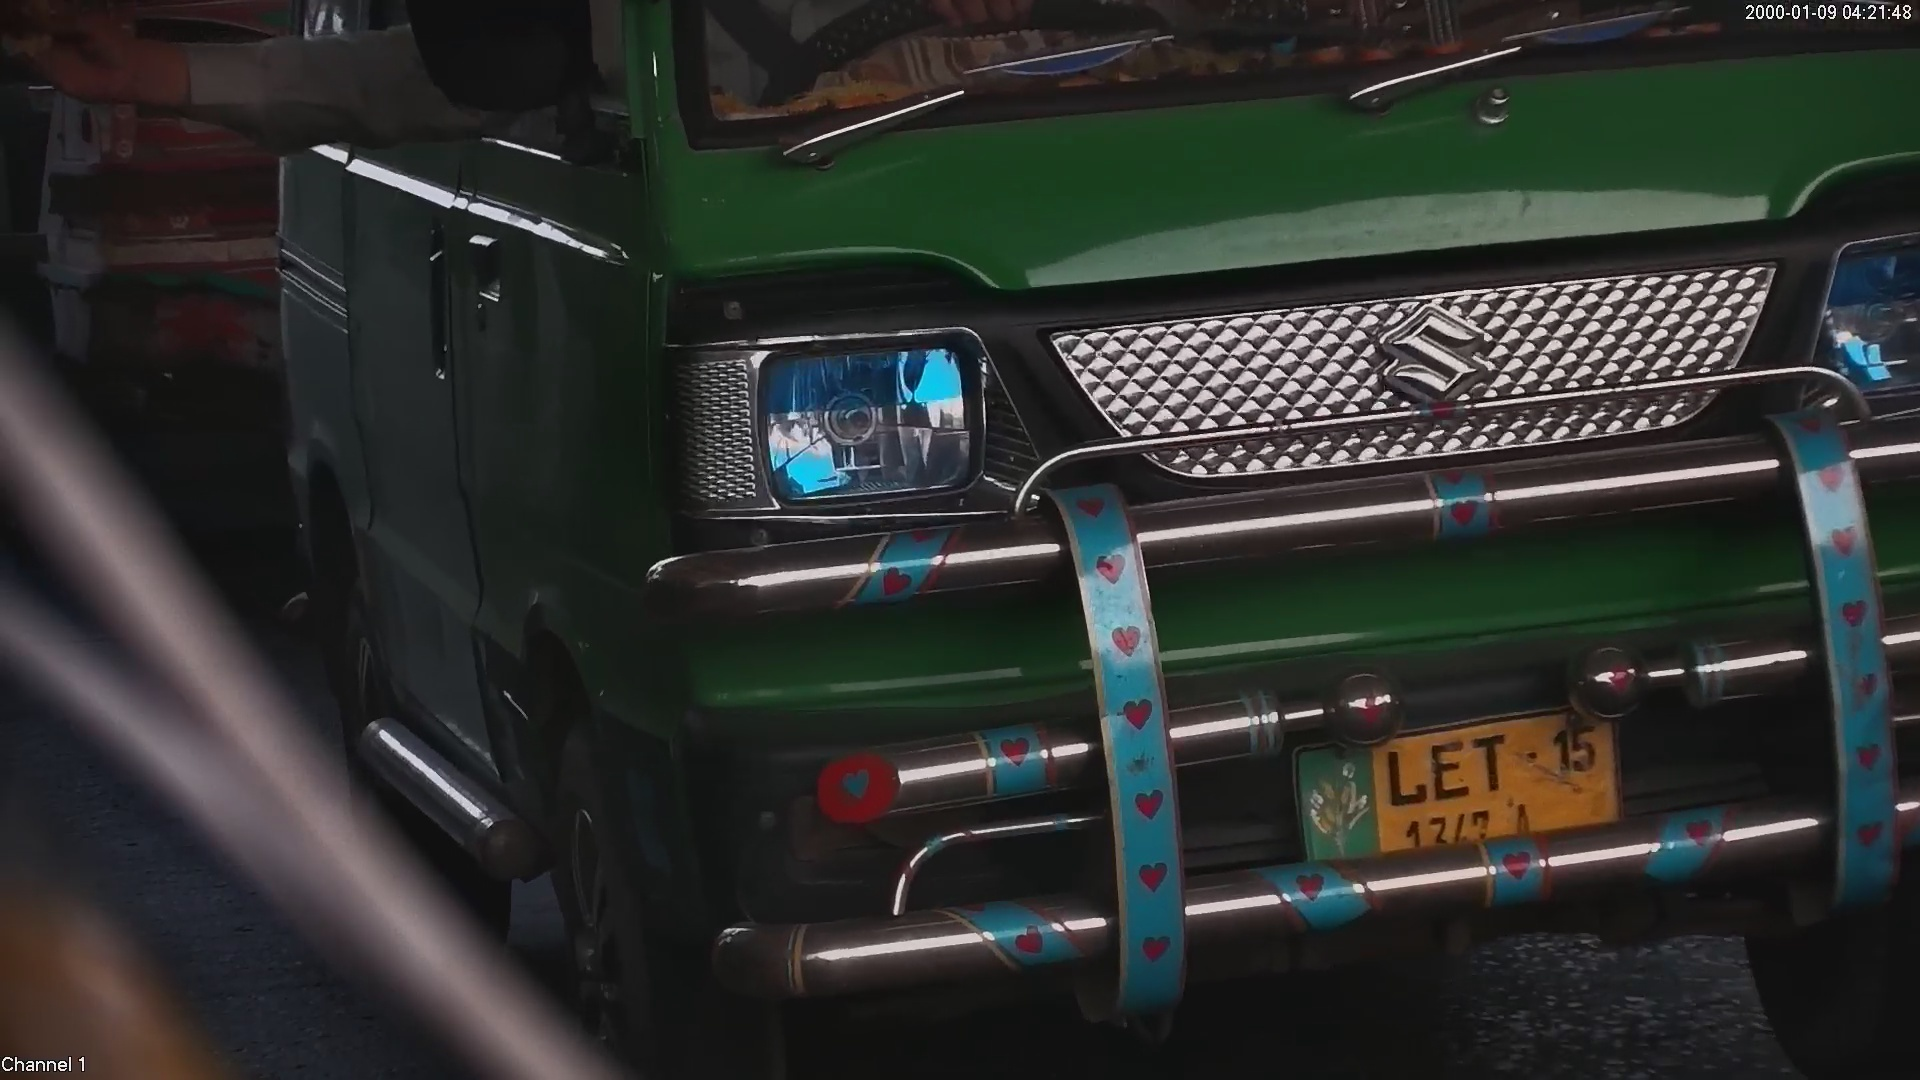Number_Plate: (1247, 670, 1656, 877)
Undefined: (656, 314, 1078, 529), (1347, 288, 1515, 420)
